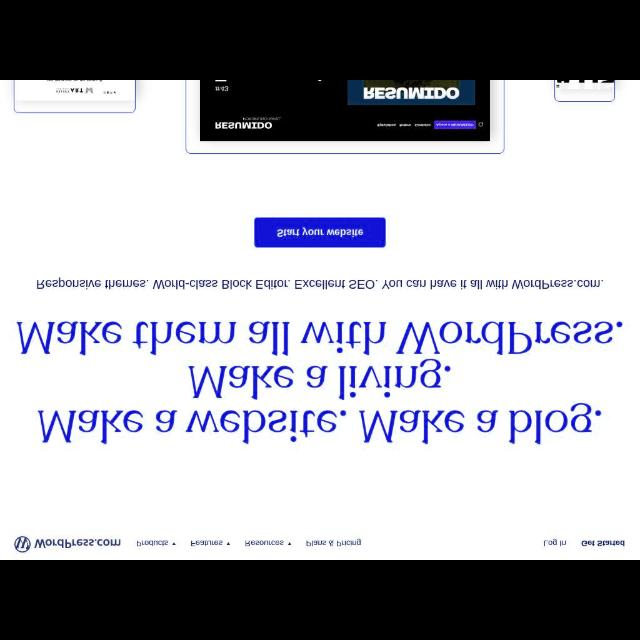icon: (227, 540, 231, 546), (286, 542, 292, 546), (172, 542, 176, 546)
image: (200, 80, 488, 142), (15, 535, 30, 553)
spinner: (245, 538, 293, 548), (136, 538, 176, 548), (191, 538, 231, 546)
text: (17, 316, 623, 446), (36, 276, 604, 290), (276, 227, 362, 240), (33, 536, 121, 548), (305, 538, 361, 548), (135, 538, 167, 548), (244, 539, 284, 547), (582, 540, 626, 546), (191, 538, 223, 546), (542, 538, 568, 546)
textbutton: (254, 218, 386, 248)
